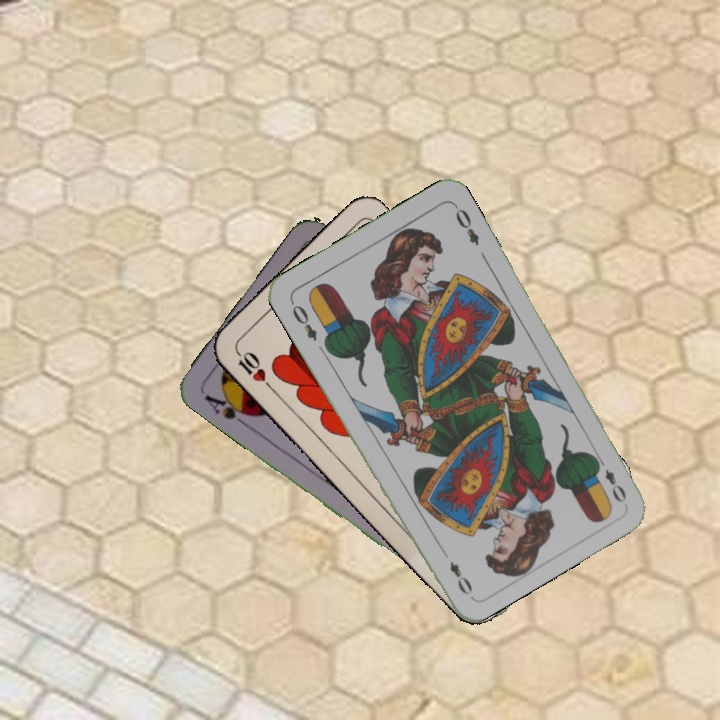EO: (591, 452, 629, 506), (286, 297, 320, 344)
H10: (231, 345, 275, 393)
SA: (200, 388, 257, 430)
